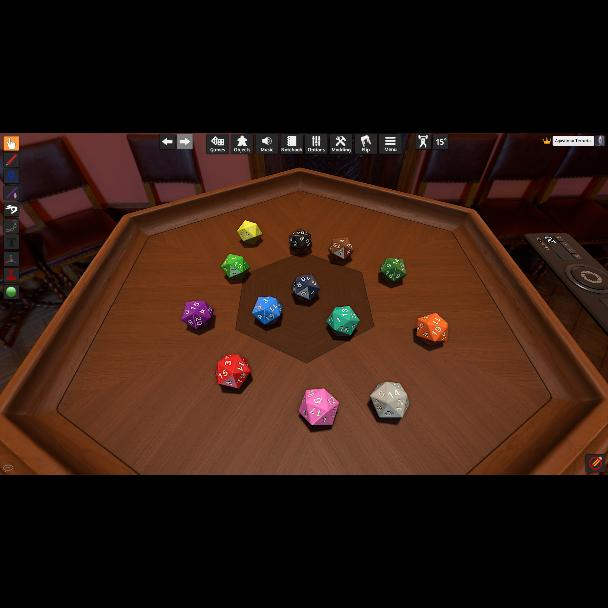d20: (300, 386, 339, 424), (371, 381, 407, 417), (216, 355, 250, 389), (325, 305, 357, 335), (418, 312, 448, 344), (252, 296, 282, 326), (182, 300, 212, 330), (290, 274, 318, 302), (222, 254, 250, 280), (380, 258, 404, 282), (328, 238, 352, 262), (288, 228, 312, 252), (238, 221, 262, 244)
